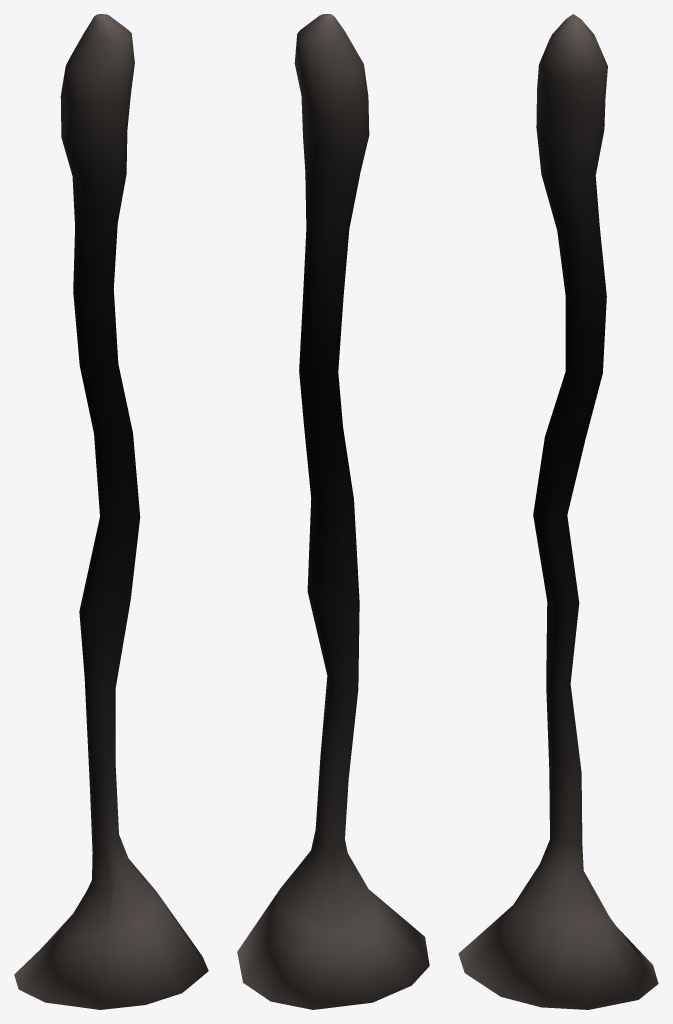
File: BossLineArm.fbx
3 views of the same model, side by side, from view 1: azimuth 30°, elevation 25°; view 2: azimuth 150°, elevation 25°; view 3: azimuth 270°, elevation 25° (orthographic).
Visible parts, largest first — view 1: LineArm; view 2: LineArm; view 3: LineArm.
Boxes of the visible parts, <box> form: LineArm: <box>14,14,208,1009</box>; LineArm: <box>237,14,429,1009</box>; LineArm: <box>458,14,658,1009</box>.
Bounding box in the file's own units: 12.37 × 67.5 × 12.73.
